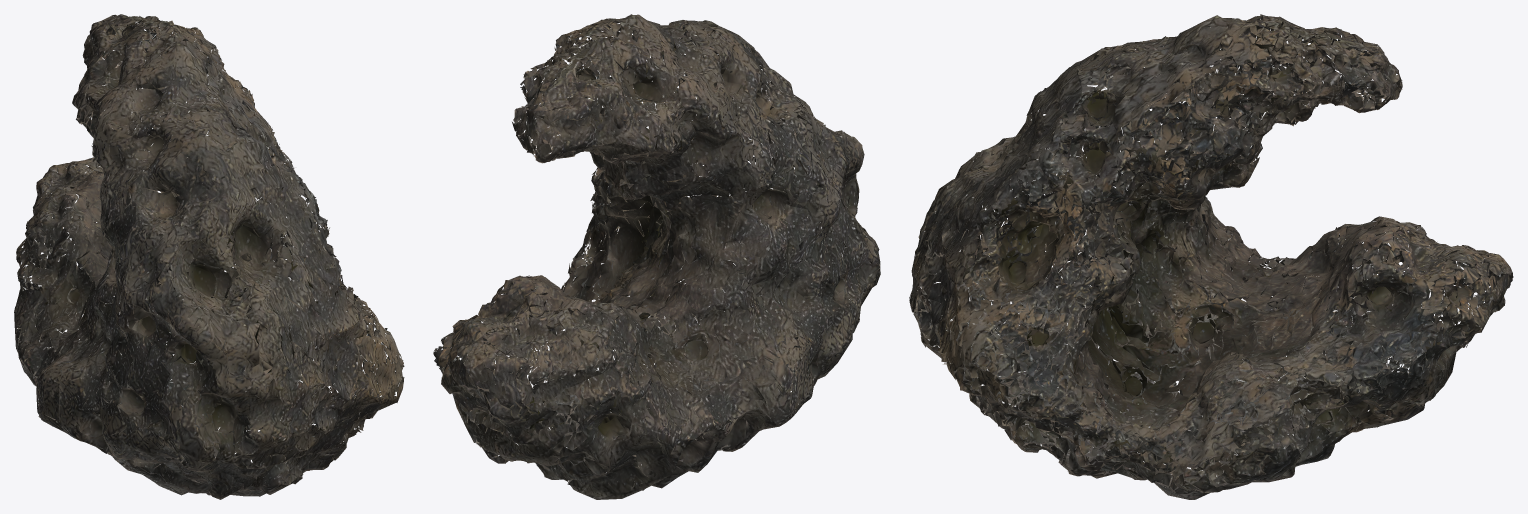
File: asteroid_rare_4.glb
3 renders of one model, left to right at view 1: azimuth 30°, elevation 25°; view 2: azimuth 150°, elevation 25°; view 3: azimuth 270°, elevation 25°, orthographic. The views are drawn at different scales.
Visible parts, largest first — view 1: model; view 2: model; view 3: model.
Boxes of the visible parts, box(x1,y1,x2,y2) form: model: box(14, 14, 404, 499); model: box(433, 14, 880, 499); model: box(909, 14, 1513, 499).
Size of the model in its own units: 1.1 by 1.57 by 1.9.
1 material, 1 textured.
